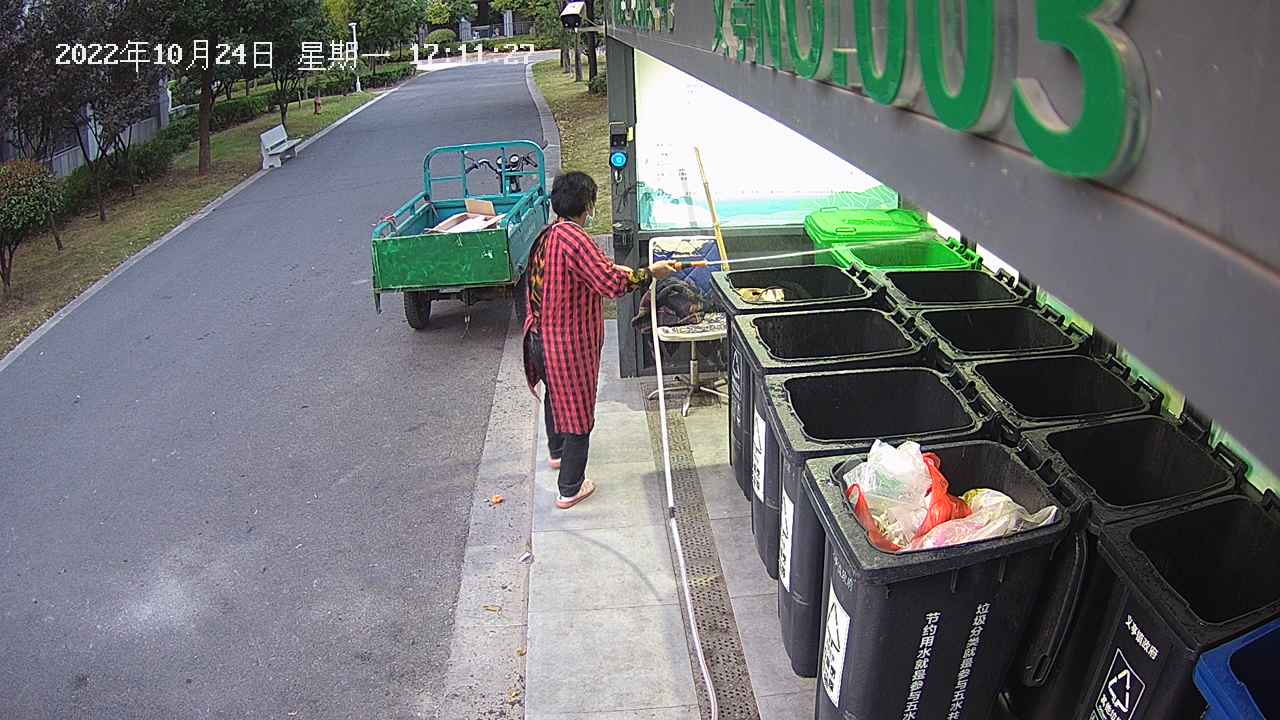person: (514, 165, 678, 514)
